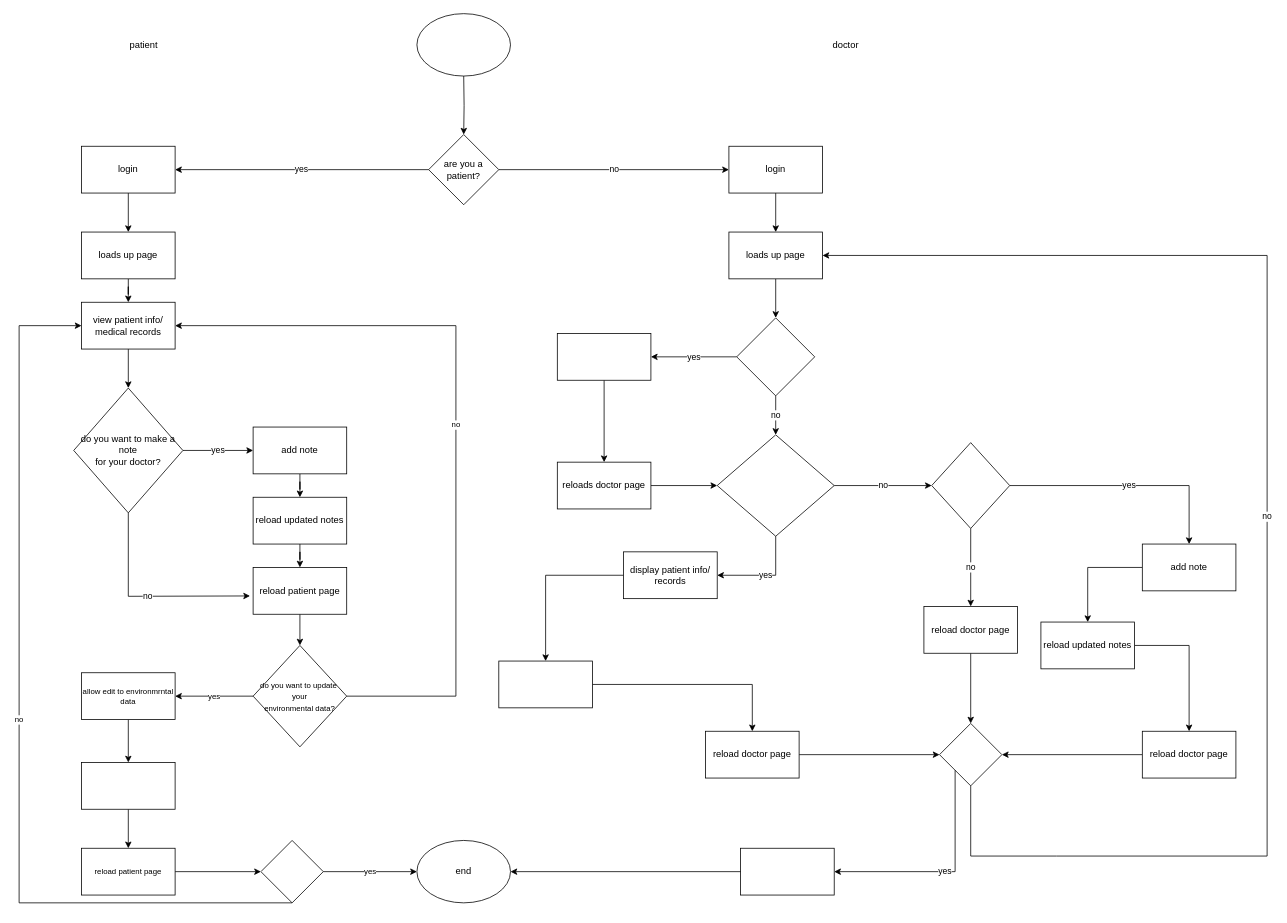
This 1287x923 diagram has some shape labels left out. Here are the shapes that lost their labels. From the top down, the centre of each, then its label:
At (463,44): "start".
At (604,356): "permission to edit list".
At (775,356): "do you wish to edit patient list?".
At (775,485): "do you want to view/ edit patient records/info?".
At (970,485): "do you want to make a doctor note?".
At (545,684): "allow doctor to edit patient info/records".
At (970,754): "do you want to sign out?".
At (128,785): "reupload updated patient environmental data".
At (291,871): "do you want to log out?".
At (787,871): "logs out".
